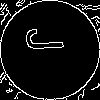J: (25, 25, 73, 53)
